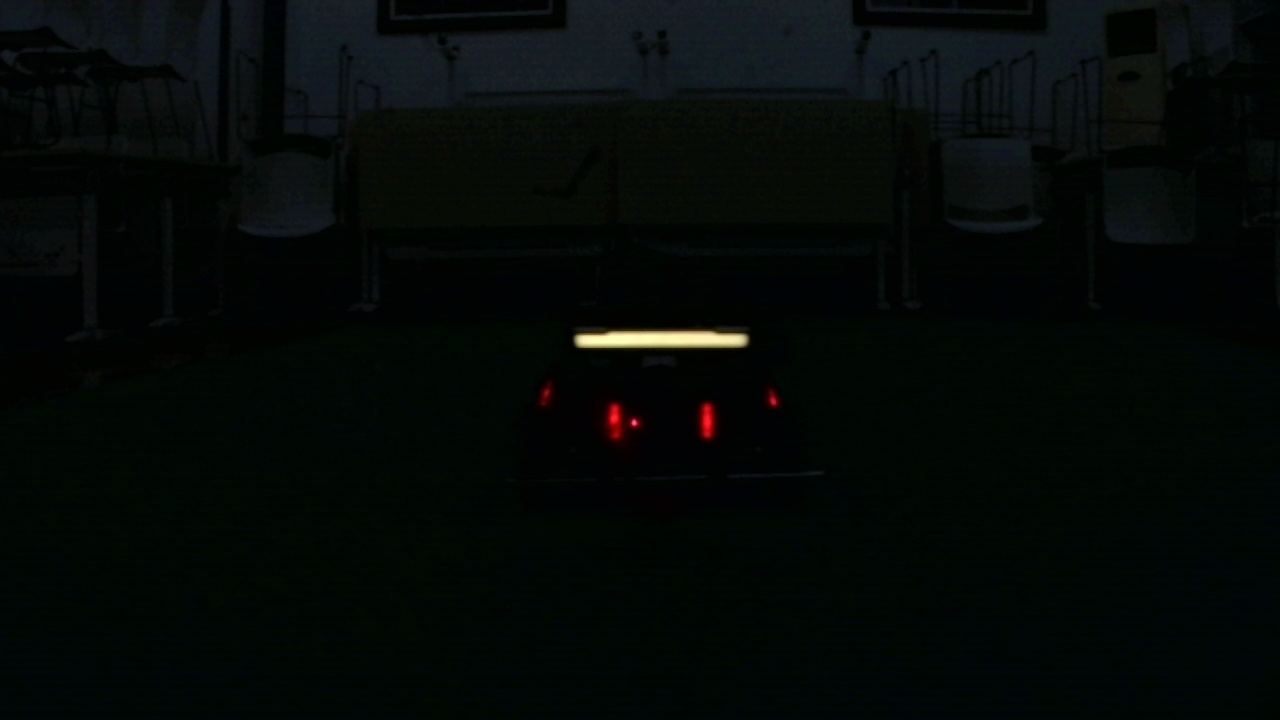lamp: (698, 401, 715, 439), (606, 398, 621, 439)
pair1: (608, 396, 716, 435)
